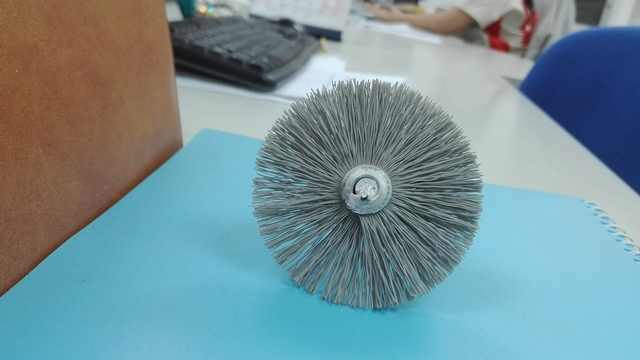TOOL: (218, 70, 548, 327), (247, 84, 495, 340)
